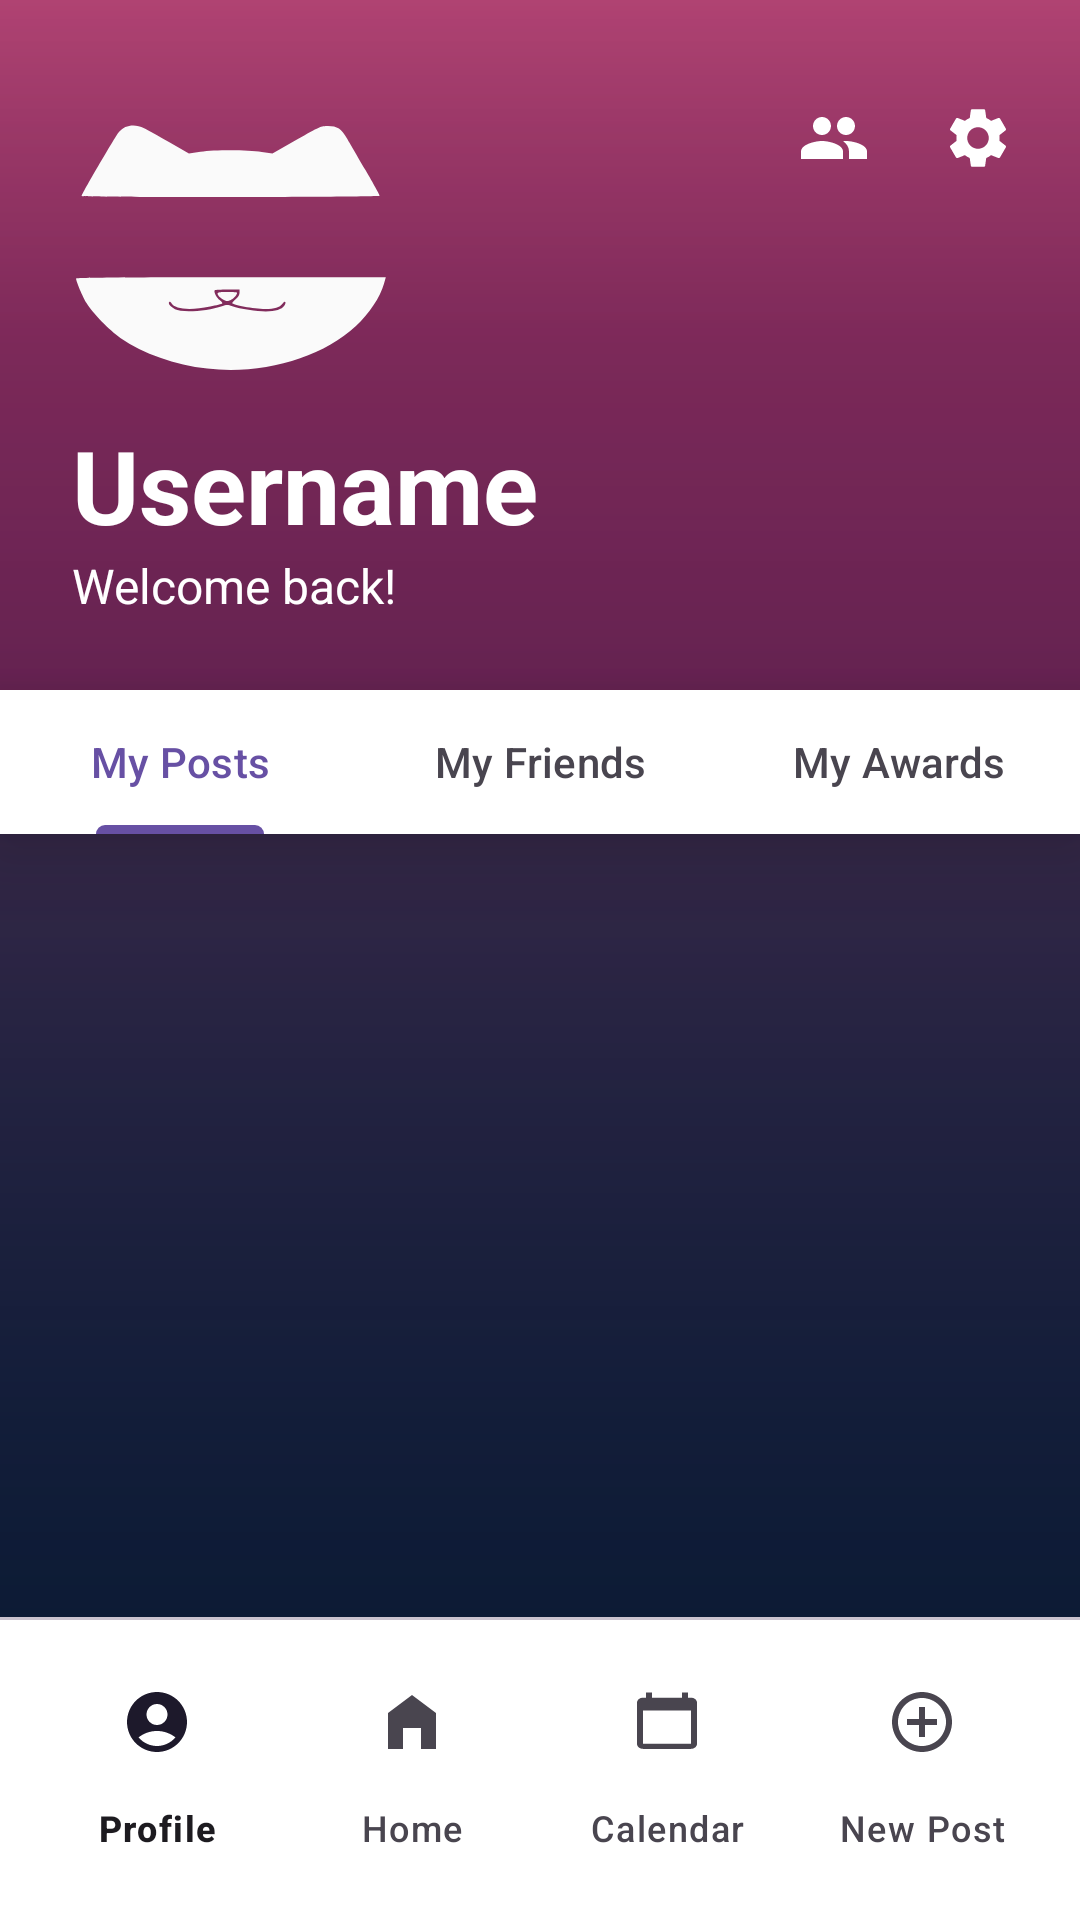

Icons on this 1080px×1920px Android screen, each with the point to tap as point (x, y):
settings: point (978, 138)
